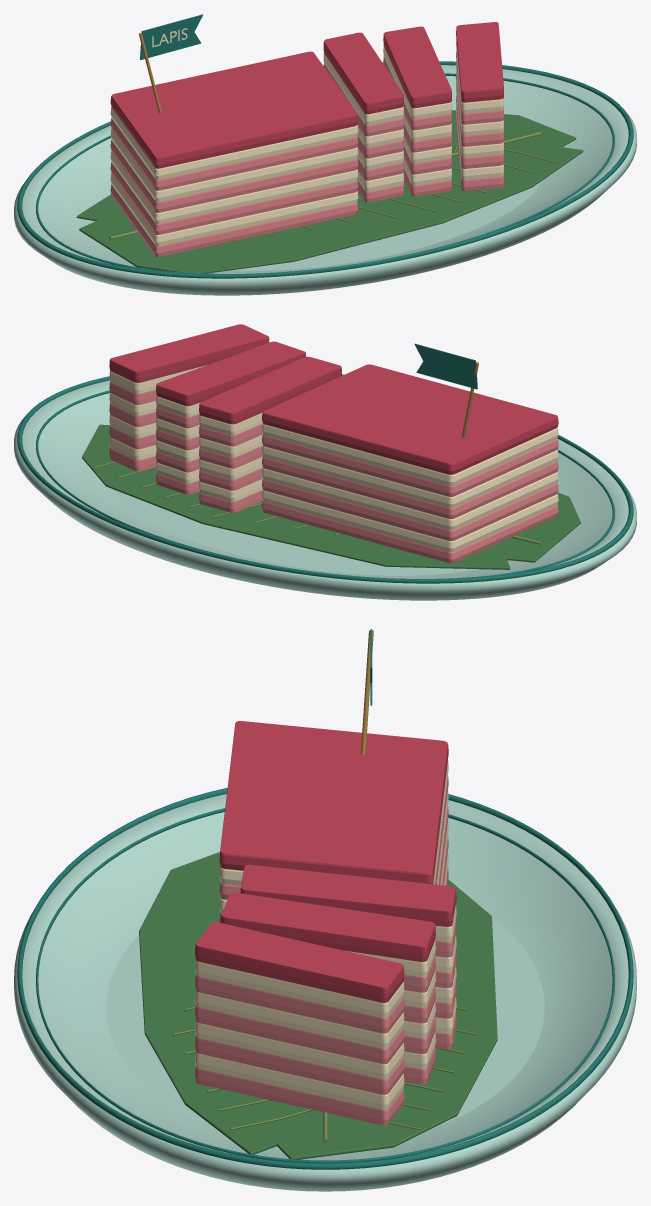
The picture shows the model from 3 angles, top to bottom: view 1: azimuth 30°, elevation 25°; view 2: azimuth 150°, elevation 25°; view 3: azimuth 270°, elevation 25°; orthographic projection. The views are drawn at different scales.
Visible parts, largest first — view 1: Layered kuih, Serving dish, Leaf liner, Paper pennant; view 2: Layered kuih, Serving dish, Leaf liner, Paper pennant; view 3: Serving dish, Layered kuih, Leaf liner, Paper pennant.
Boxes of the visible parts, left/top/right/bottom form: Layered kuih: left=110, top=22, right=503, bottom=256; Serving dish: left=14, top=61, right=636, bottom=295; Leaf liner: left=76, top=110, right=583, bottom=273; Paper pennant: left=138, top=14, right=202, bottom=112; Layered kuih: left=109, top=324, right=558, bottom=563; Serving dish: left=14, top=374, right=636, bottom=600; Leaf liner: left=82, top=424, right=580, bottom=569; Paper pennant: left=414, top=343, right=478, bottom=437; Serving dish: left=14, top=788, right=636, bottom=1191; Layered kuih: left=195, top=721, right=456, bottom=1125; Leaf liner: left=139, top=852, right=497, bottom=1159; Paper pennant: left=360, top=629, right=373, bottom=755.
Size of the model in its own units: 0.324 by 0.116 by 0.2171.
